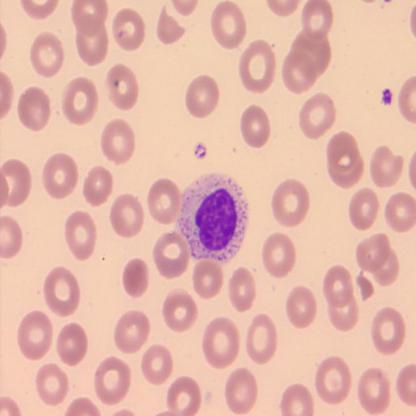Metamyelocyte: (178, 170, 252, 265)
